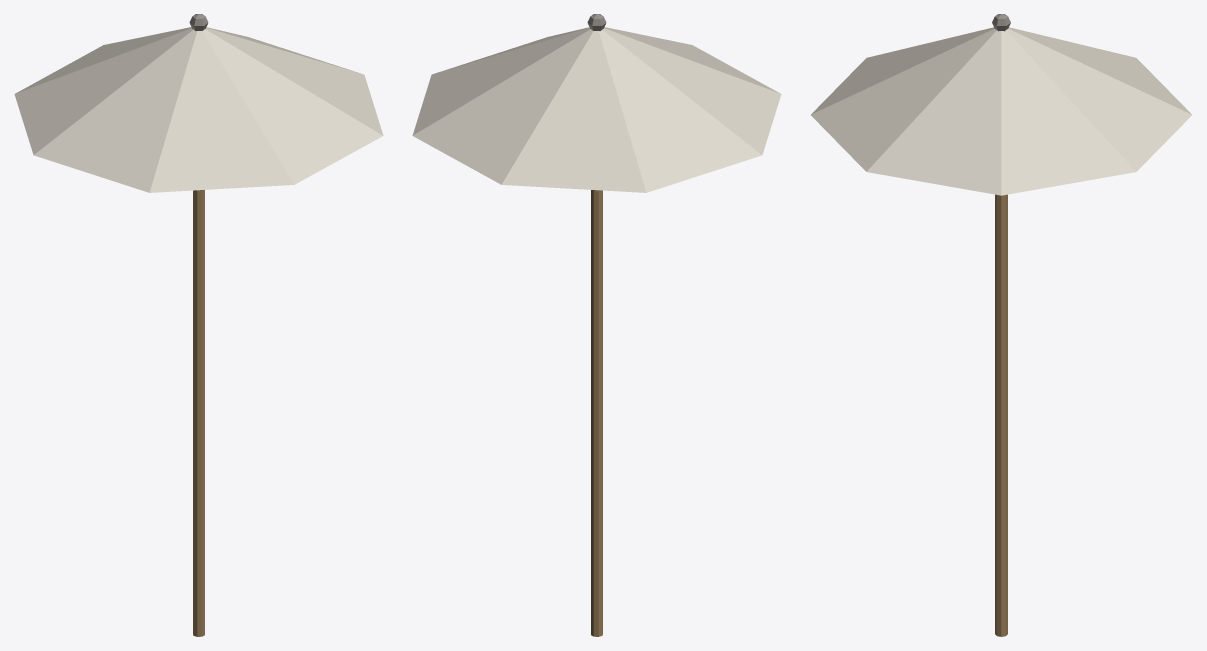
The model's file is Umbrella_2.glb.
The picture shows the model from 3 angles, left to right: view 1: azimuth 30°, elevation 25°; view 2: azimuth 150°, elevation 25°; view 3: azimuth 270°, elevation 25°; orthographic projection.
Parts seen in each view (by area): view 1: Umbrella_2; view 2: Umbrella_2; view 3: Umbrella_2.
Boxes of the visible parts, box(x1,y1,x2,y2) form: Umbrella_2: box(14, 14, 383, 636); Umbrella_2: box(412, 14, 781, 636); Umbrella_2: box(811, 14, 1191, 636).
Bounding box in the file's own units: 1.2 × 2.15 × 1.2.
